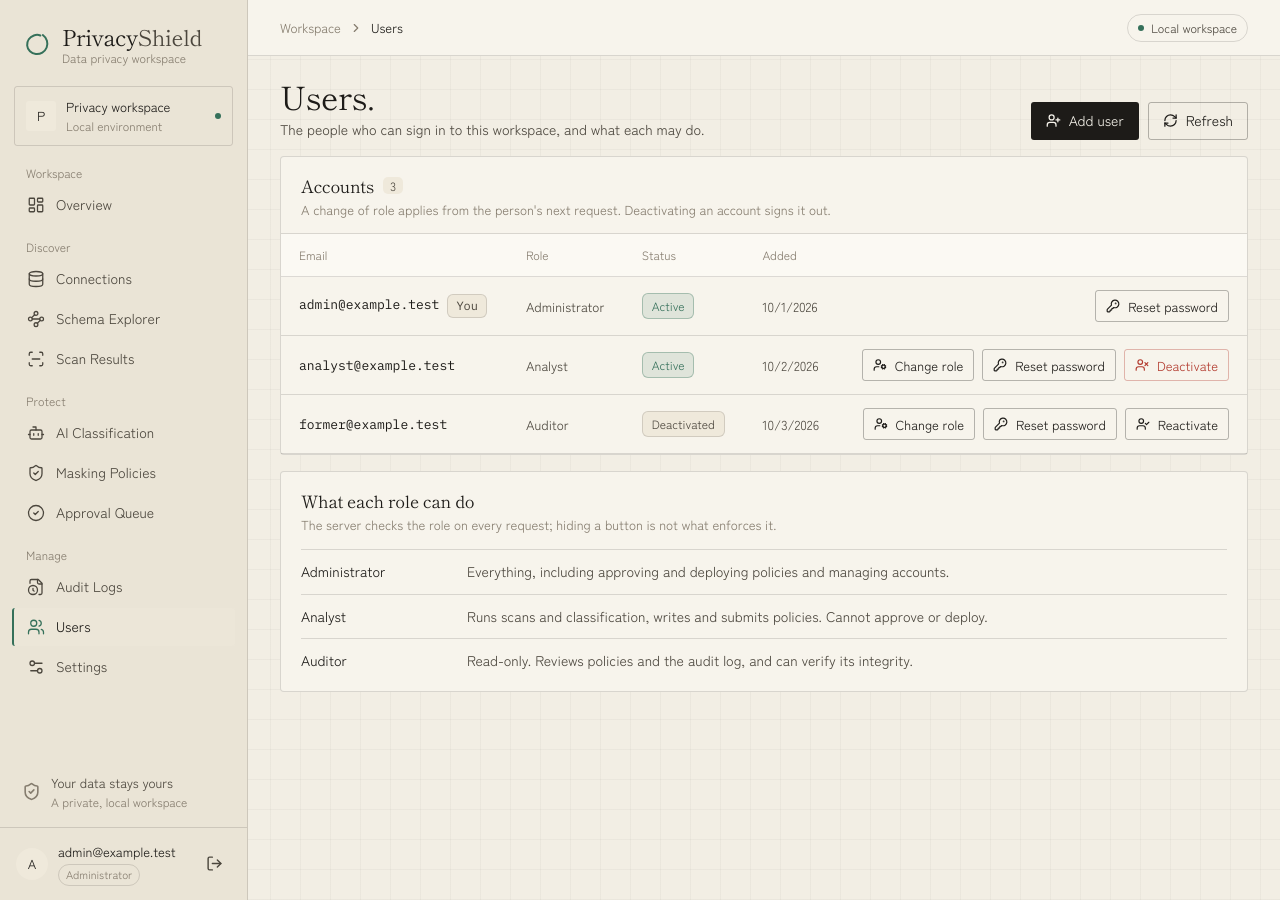
Test case: account management › sets a new password for someone without showing it afterwards
Click the button with aria-label "Reset password for analyst@example.test" at point(1049, 365), box [982,349,1116,381]
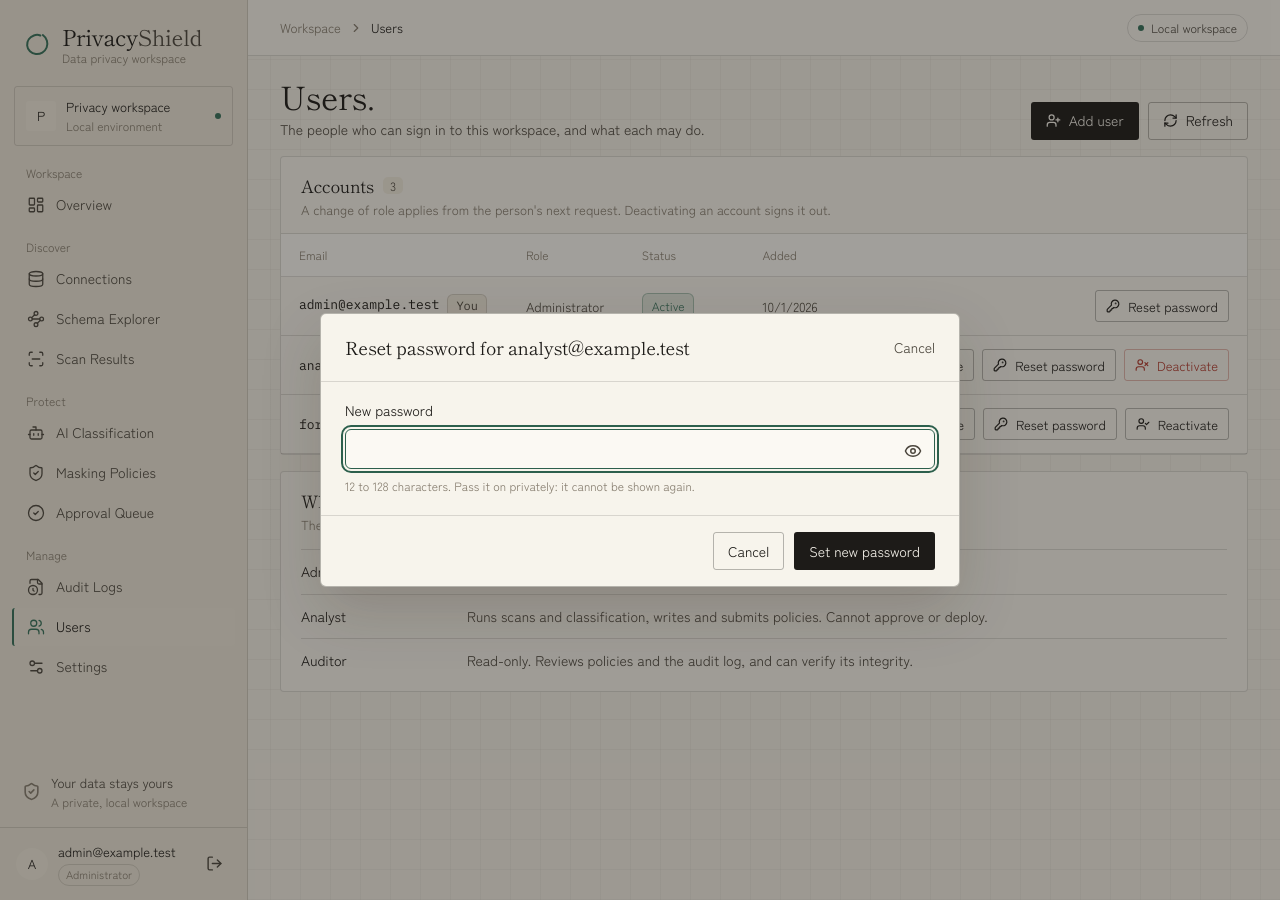
Type "replacement-password-1" into the password field labelled "New password" at point(640, 449), box [345,429,935,469]
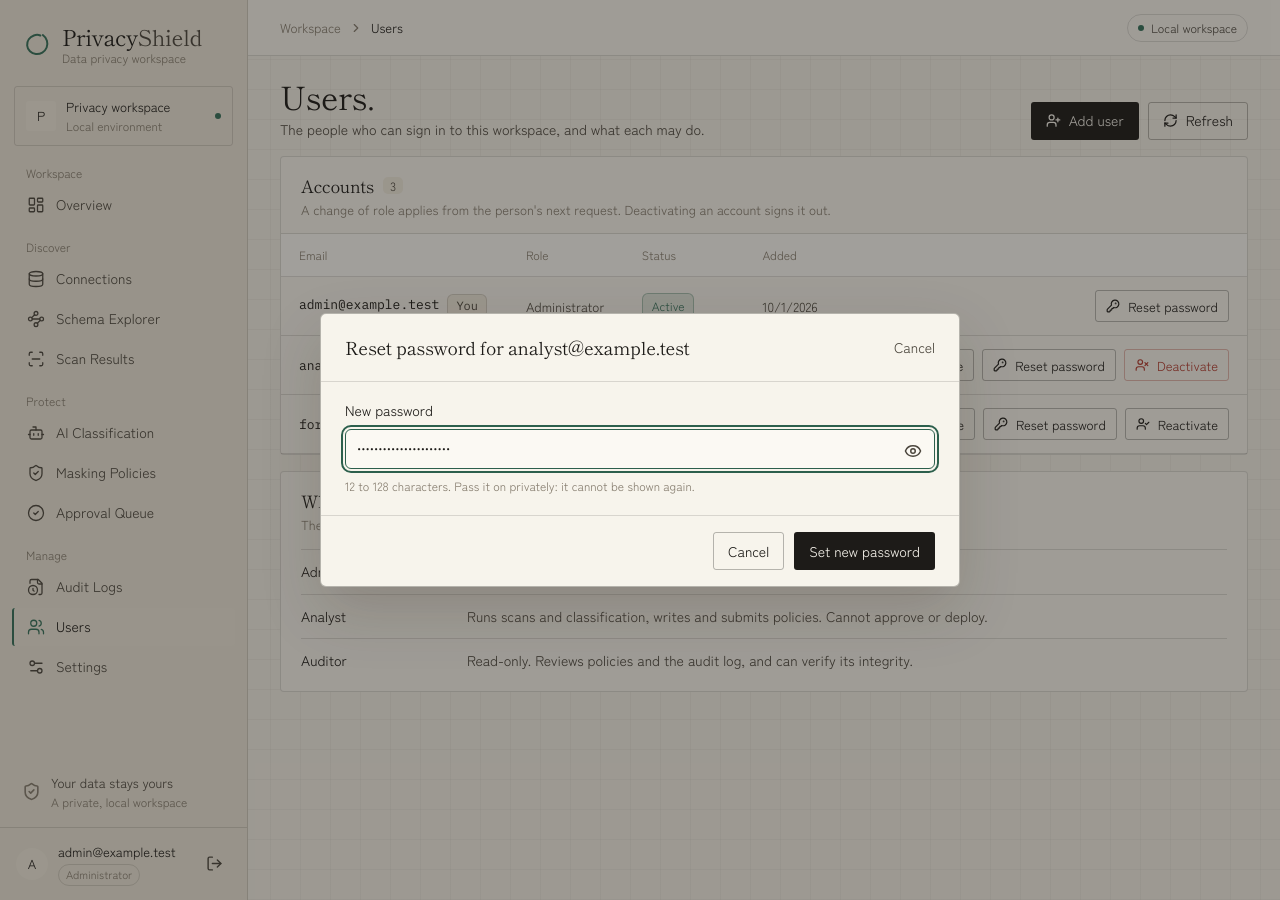
Click the button named "Show password" at point(913, 451), box [896,434,930,468]
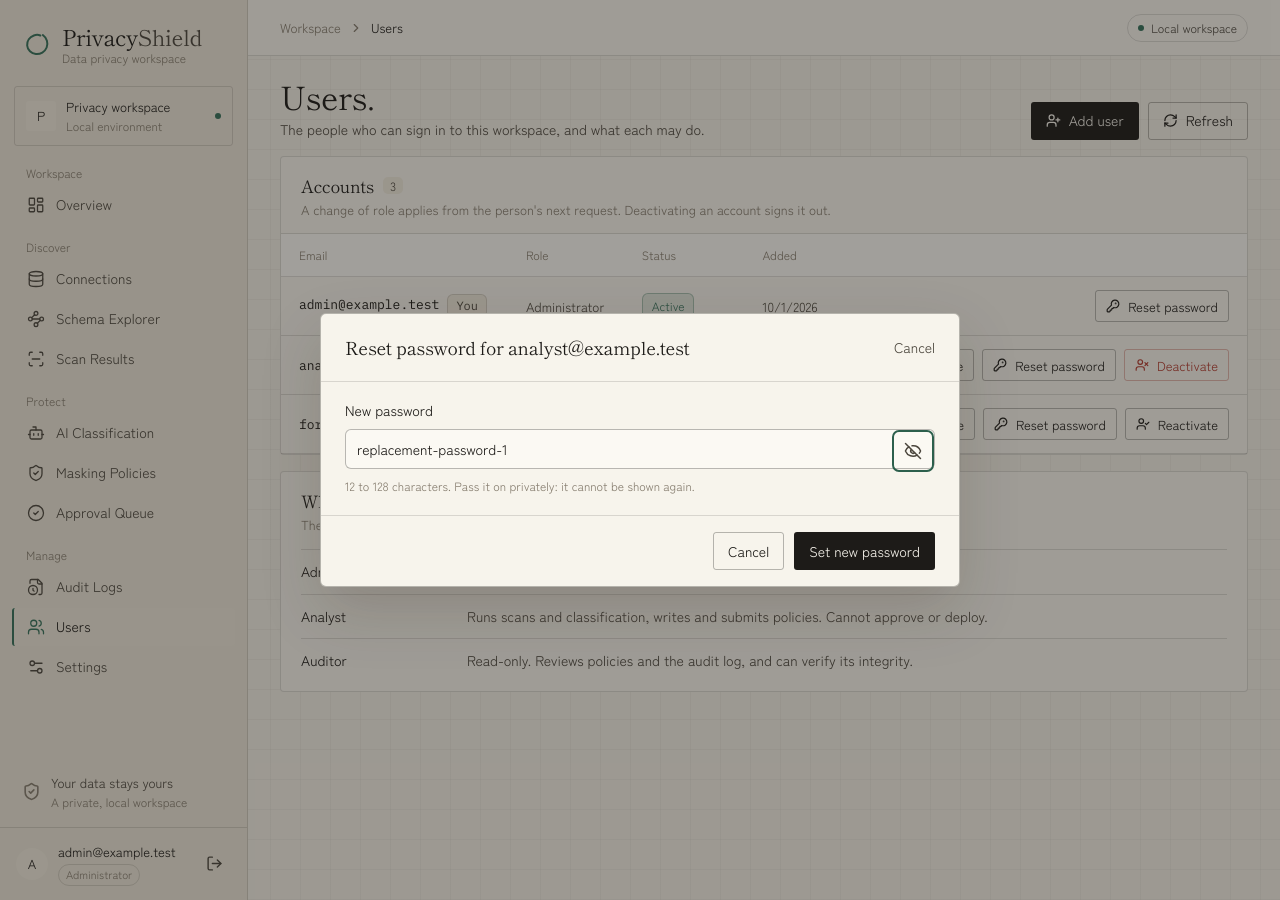
Now the field labelled "New password" shows its text, box [345,429,935,469]
Click the button "Set new password" at point(865, 551), box [794,532,935,570]
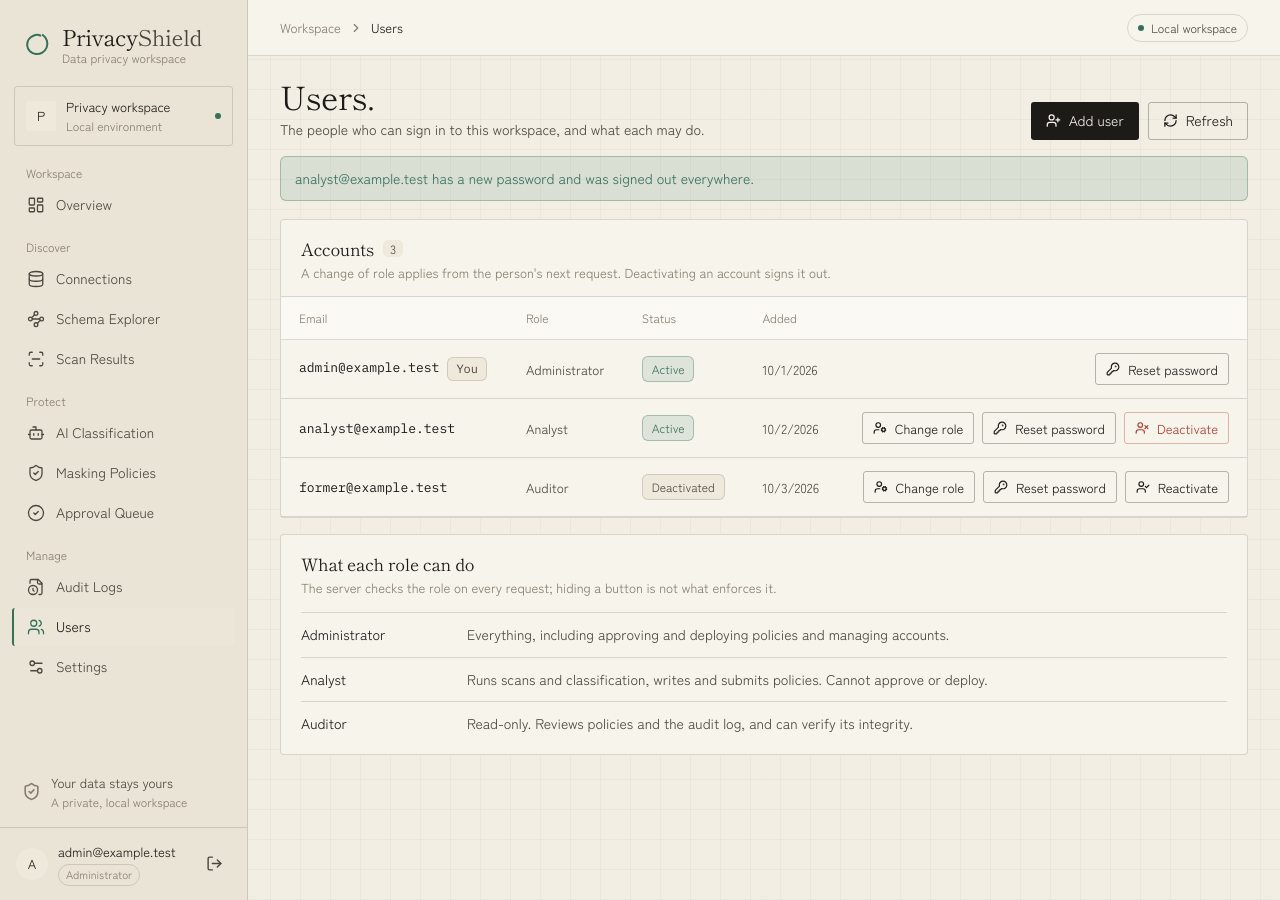
Now the message reads "analyst@example.test has a new password and was signed out everywhere.", box [295,168,754,188]
